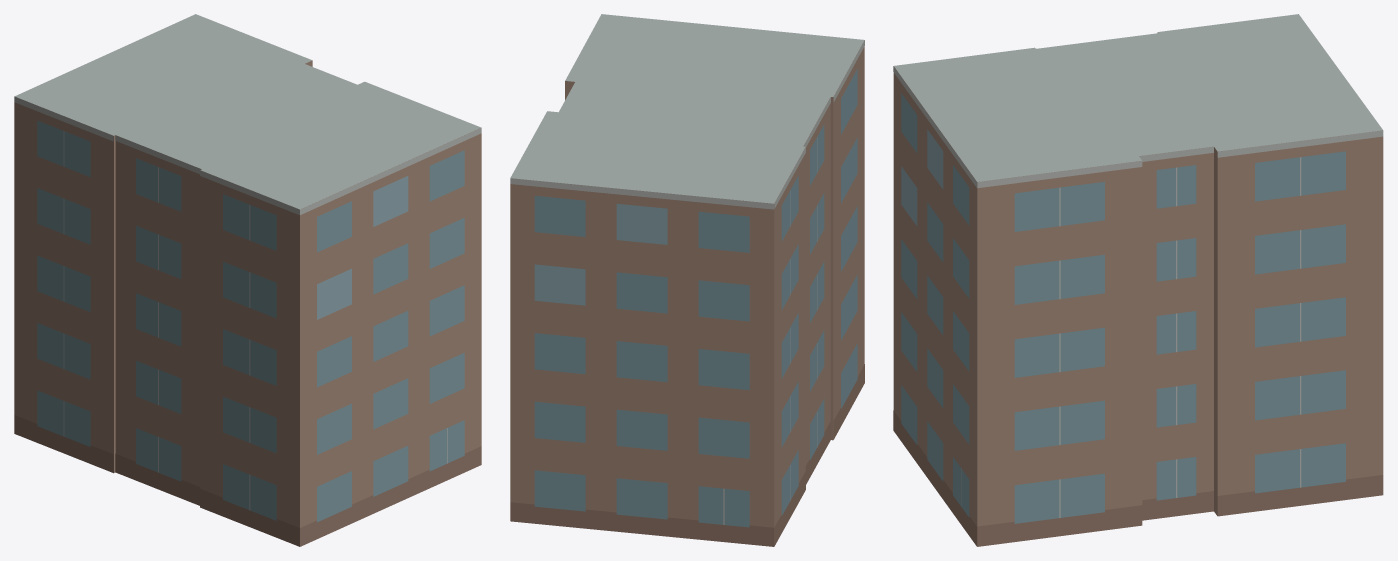
File: survey-upis-32611794.glb
3 renders of one model, left to right at view 1: azimuth 30°, elevation 25°; view 2: azimuth 150°, elevation 25°; view 3: azimuth 270°, elevation 25°, orthographic. The views are drawn at different scales.
Parts seen in each view (by area): view 1: survey-upis-32611794.tmp; view 2: survey-upis-32611794.tmp; view 3: survey-upis-32611794.tmp.
Boxes of the visible parts, x1,y1,x2,y2 form: survey-upis-32611794.tmp: (14, 14, 481, 546); survey-upis-32611794.tmp: (510, 14, 864, 546); survey-upis-32611794.tmp: (893, 14, 1383, 546).
Bounding box in the file's own units: 14.14 × 14.3 × 17.41.
